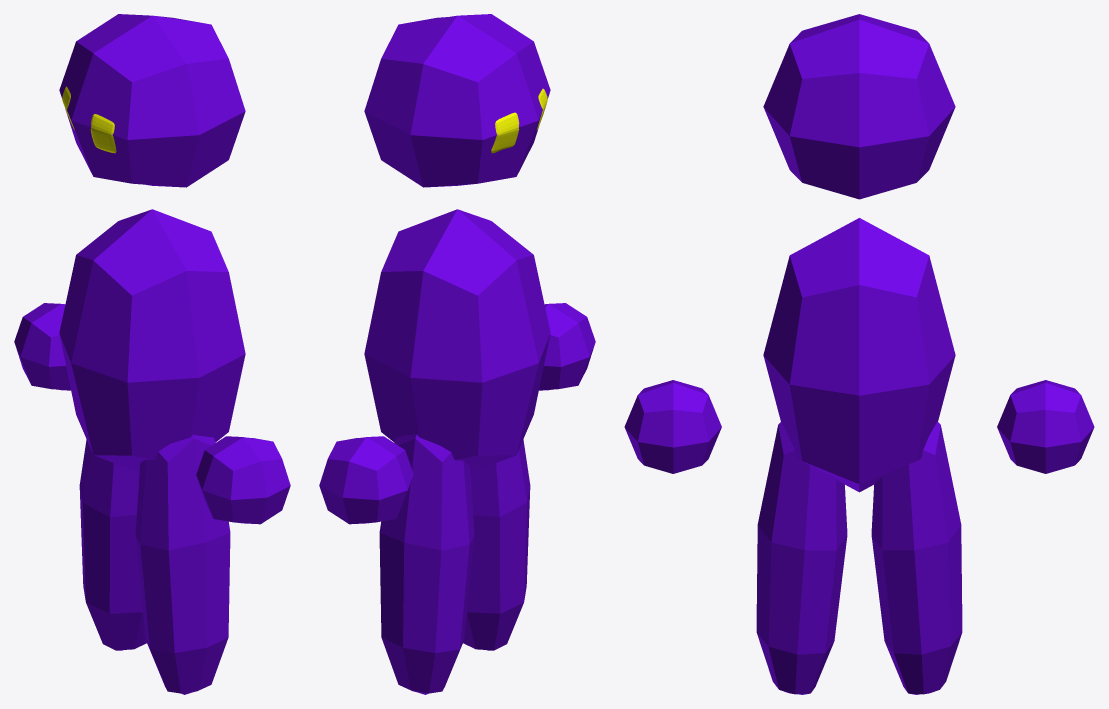
Rendered from Stickerman_3D.fbx.
3 views of the same model, side by side, from view 1: azimuth 30°, elevation 25°; view 2: azimuth 150°, elevation 25°; view 3: azimuth 270°, elevation 25° (orthographic). The views are drawn at different scales.
Parts seen in each view (by area): view 1: Tronco.001, Cabeça.001, Pernas.002, Pernas.003, Mãos.002, Mãos.003, Plano.001; view 2: Tronco.001, Cabeça.001, Pernas.003, Pernas.002, Mãos.003, Mãos.002, Plano.001; view 3: Tronco.001, Cabeça.001, Pernas.003, Pernas.002, Mãos.002, Mãos.003.
Part boxes in pixels (x1,y1,x2,y2): Tronco.001: (59,209,245,472); Cabeça.001: (59,14,245,187); Pernas.002: (135,434,230,694); Pernas.003: (79,439,146,650); Mãos.002: (196,436,290,524); Mãos.003: (14,303,70,390); Plano.001: (62,86,116,153); Tronco.001: (364,209,550,472); Cabeça.001: (364,14,550,187); Pernas.003: (379,434,474,694); Pernas.002: (463,439,530,650); Mãos.003: (319,436,413,524); Mãos.002: (539,303,595,390); Plano.001: (491,88,547,153); Tronco.001: (763,218,955,492); Cabeça.001: (763,14,955,199); Pernas.003: (871,421,962,694); Pernas.002: (756,421,847,694); Mãos.002: (624,380,721,473); Mãos.003: (997,380,1094,473).
Bounding box in the file's own units: 168 × 646 × 411.
